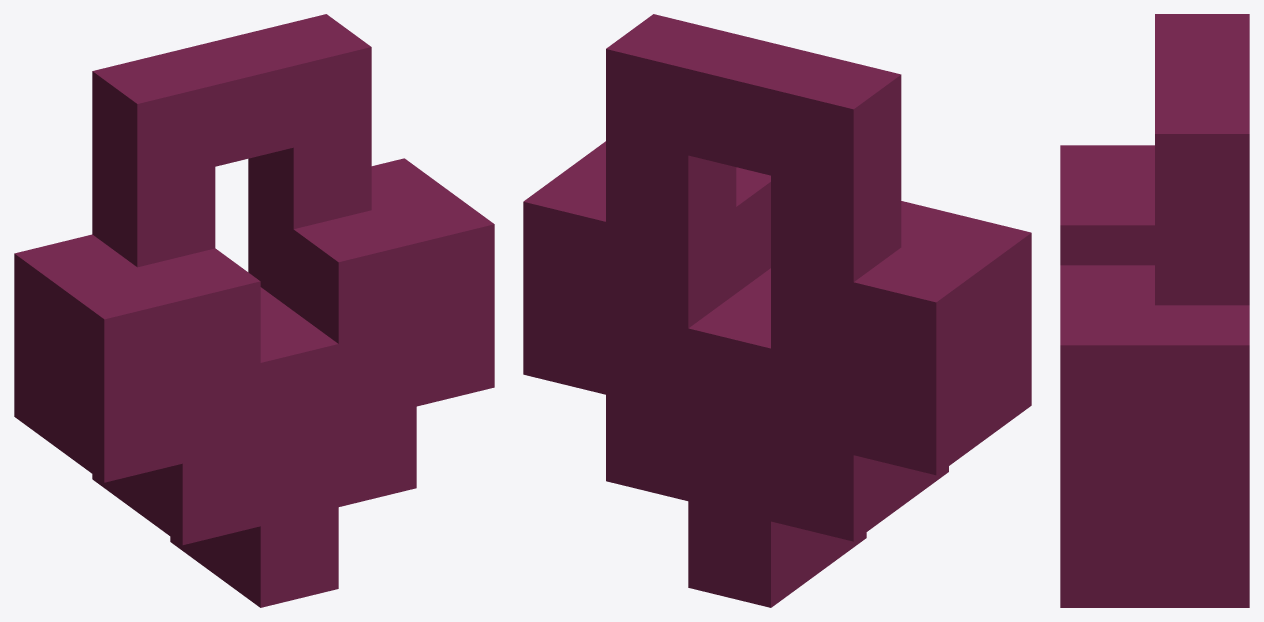
Rendered from treasure_chest_f_lock.obj.
The picture shows the model from 3 angles, left to right: view 1: azimuth 30°, elevation 25°; view 2: azimuth 150°, elevation 25°; view 3: azimuth 270°, elevation 25°; orthographic projection. The views are drawn at different scales.
Bounding box in the file's own units: 0.5 × 0.6 × 0.2.
Materials: 1 (1 with a texture image).
